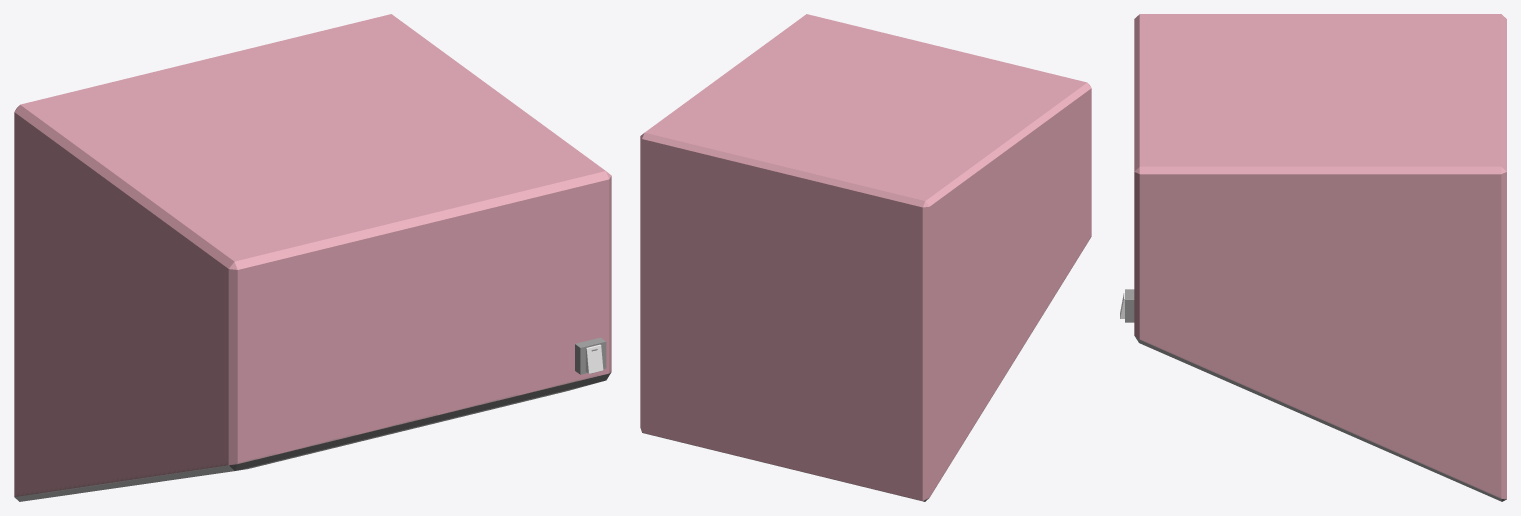
The model's file is Hood 1.fbx.
The picture shows the model from 3 angles, left to right: view 1: azimuth 30°, elevation 25°; view 2: azimuth 150°, elevation 25°; view 3: azimuth 270°, elevation 25°; orthographic projection. The views are drawn at different scales.
Visible parts, largest first — view 1: Cube1; view 2: Cube1; view 3: Cube1.
Part boxes in pixels (x1=…): Cube1: x1=14, y1=14, x2=611, y2=501; Cube1: x1=640, y1=14, x2=1091, y2=501; Cube1: x1=1120, y1=14, x2=1506, y2=501.
Size of the model in its own units: 88.44 by 91.8 by 87.77.
1 material, 1 textured.
